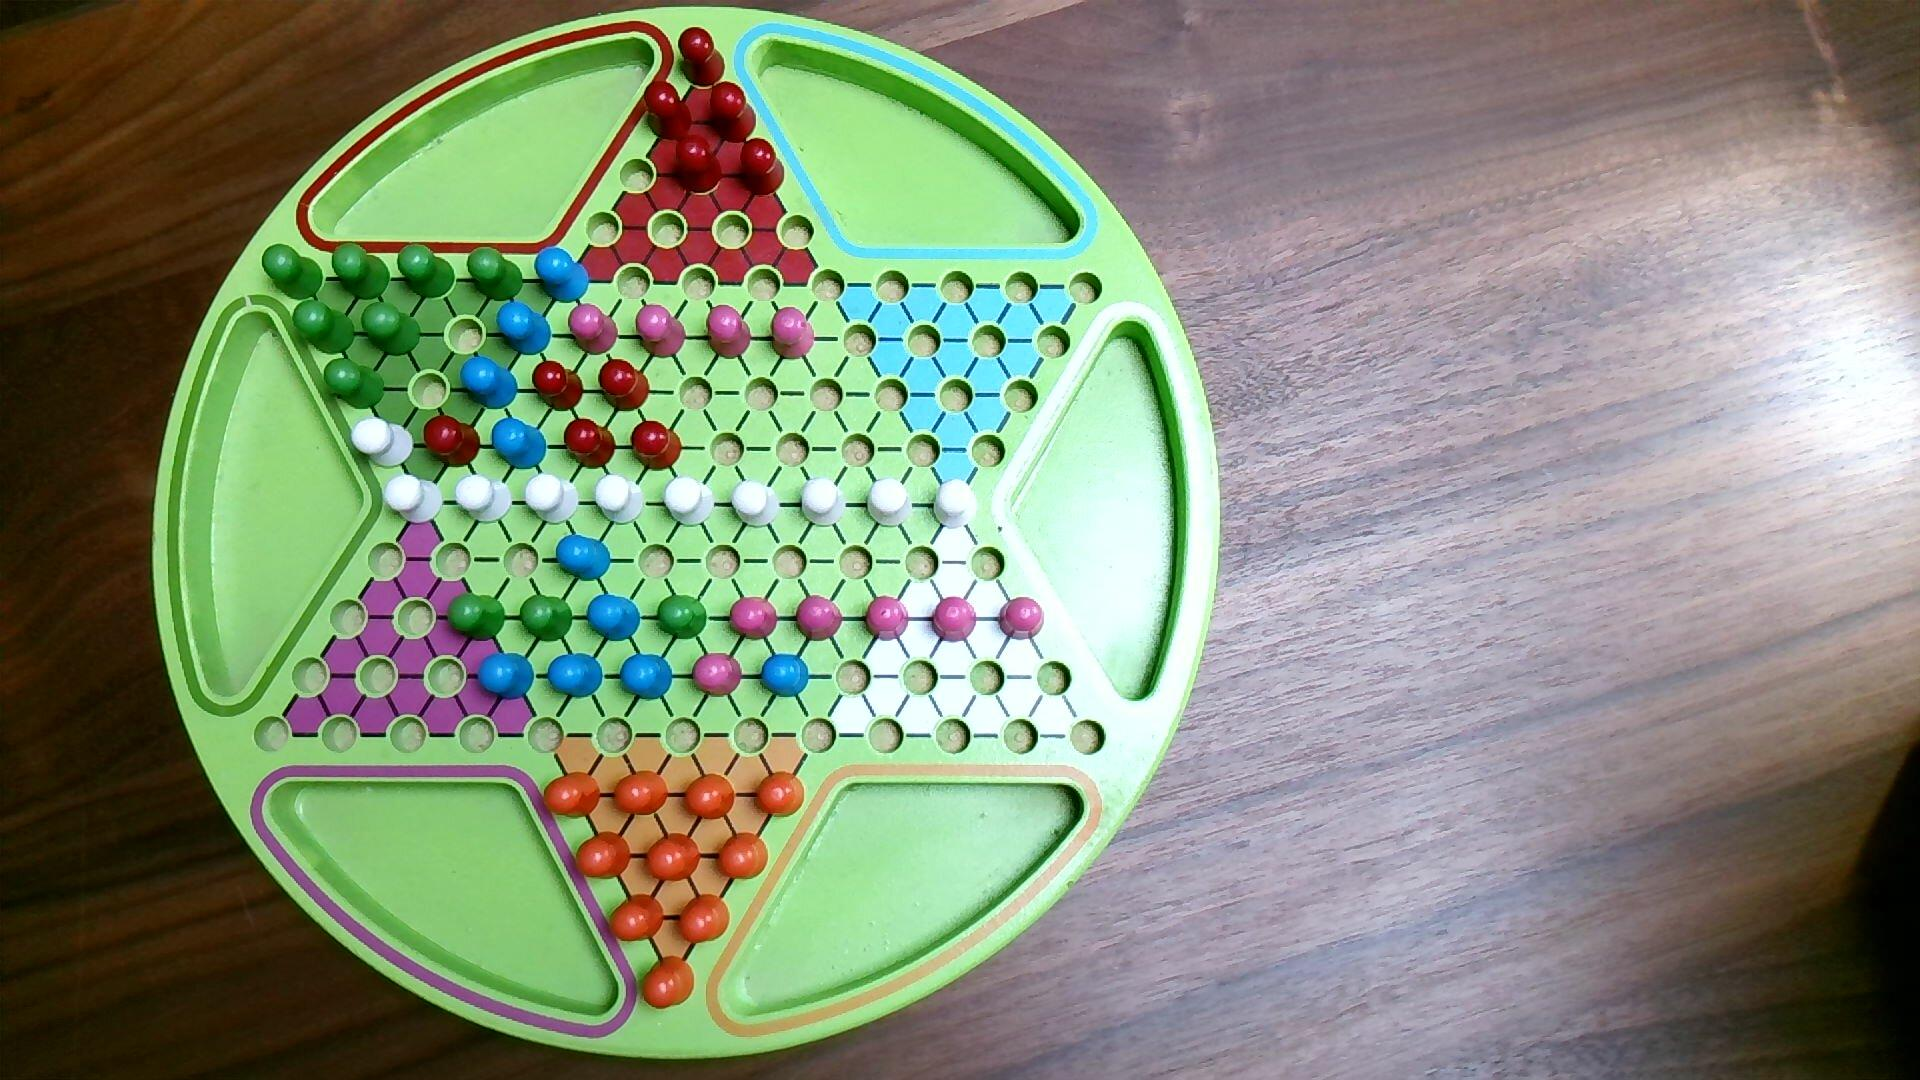B: (458, 353, 521, 411), (533, 245, 592, 306), (495, 299, 554, 357), (473, 650, 537, 704), (491, 415, 549, 473), (584, 592, 644, 645), (554, 533, 613, 584), (546, 651, 607, 702), (618, 651, 675, 703), (758, 651, 814, 702)
G: (258, 241, 324, 303), (291, 297, 357, 357), (359, 301, 425, 360), (331, 240, 392, 303), (396, 243, 458, 302), (465, 243, 525, 305), (322, 356, 386, 411), (446, 589, 508, 644), (518, 593, 575, 645), (655, 593, 709, 644)
O: (640, 953, 698, 1011), (574, 831, 636, 882), (607, 893, 667, 944), (541, 771, 603, 822), (713, 831, 771, 884), (644, 832, 703, 884), (676, 891, 732, 945), (612, 770, 671, 818), (683, 773, 738, 822), (753, 771, 806, 820)
R: (705, 80, 760, 146), (421, 413, 483, 469), (642, 78, 695, 142), (674, 132, 725, 196), (737, 136, 789, 199), (676, 25, 728, 88), (530, 359, 585, 415), (597, 357, 653, 414), (562, 415, 618, 471), (628, 419, 684, 473)
R2: (633, 302, 688, 360), (567, 301, 621, 357), (704, 303, 754, 363), (767, 306, 818, 363), (793, 593, 847, 644), (727, 595, 781, 644), (690, 651, 745, 699), (928, 593, 978, 645), (862, 593, 911, 644), (997, 596, 1047, 644)
W: (349, 415, 417, 471), (381, 473, 446, 527), (454, 472, 514, 527), (524, 472, 582, 527), (662, 475, 717, 529), (593, 473, 647, 527), (865, 476, 915, 530), (799, 475, 848, 530), (731, 479, 781, 531), (931, 477, 980, 531)
